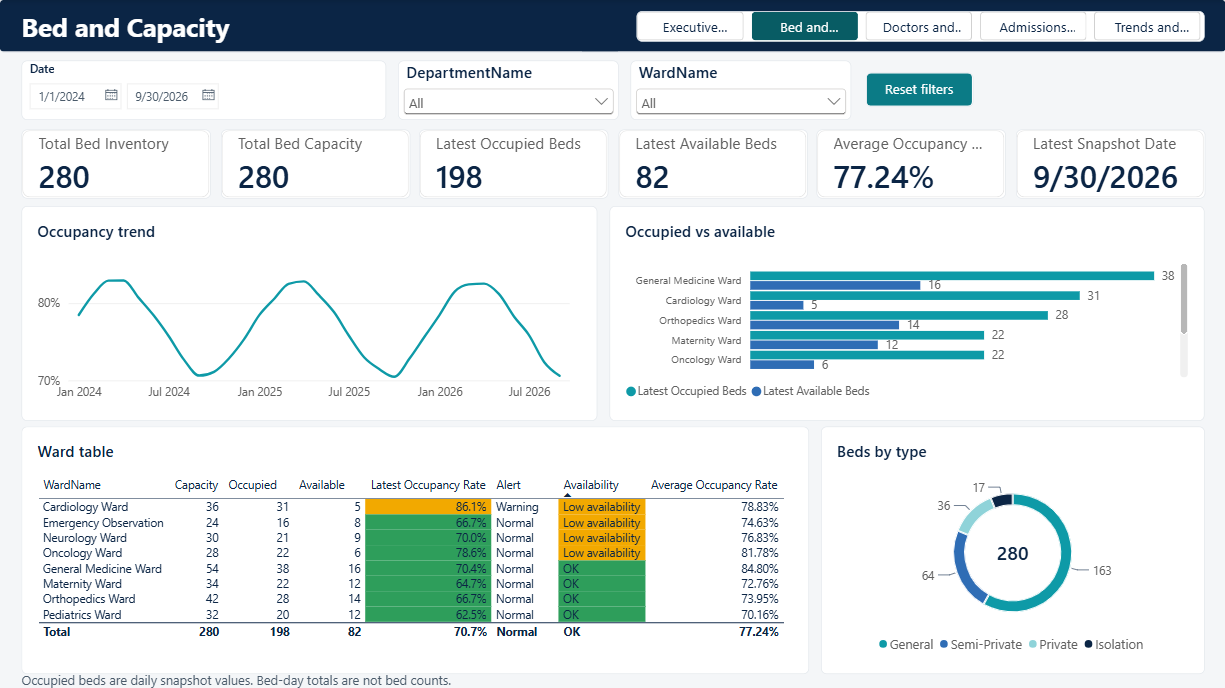

This screenshot's page, from the dashboard's own definition file:
{"tool":"powerbi","page":{"name":"Bed and Capacity","canvas":[1280,720],"ordinal":1},"visuals":[{"type":"shape","box":[0,0,1280.1,56.3],"z":0},{"type":"textbox","box":[23.1,11.6,600.9,44.3],"z":1000},{"type":"pageNavigator","box":[664,12,592,32],"z":2000},{"type":"slicer","fields":{"Values":["Calendar.Date"]},"box":[24,64,380,62],"z":3000},{"type":"slicer","fields":{"Values":["Departments.DepartmentName"]},"box":[416,64,230,62],"z":4000},{"type":"slicer","fields":{"Values":["Wards.WardName"]},"box":[658,64,230,62],"z":5000},{"type":"cardVisual","fields":{"Data":["_Measures.Total Bed Inventory"]},"box":[24,136,197,72],"z":6000},{"type":"cardVisual","fields":{"Data":["_Measures.Total Bed Capacity"]},"box":[231,136,197,72],"z":7000},{"type":"cardVisual","fields":{"Data":["_Measures.Latest Occupied Beds"]},"box":[438,136,197,72],"z":8000},{"type":"cardVisual","fields":{"Data":["_Measures.Latest Available Beds"]},"box":[645,136,197,72],"z":9000},{"type":"cardVisual","fields":{"Data":["_Measures.Average Occupancy Rate"]},"box":[852,136,197,72],"z":10000},{"type":"cardVisual","fields":{"Data":["_Measures.Latest Snapshot Date"]},"box":[1059,136,197,72],"z":11000},{"type":"lineChart","title":"Occupancy trend","fields":{"Category":["Calendar.MonthStart"],"Y":["_Measures.Average Occupancy Rate"]},"box":[24,216,600,224],"z":12000},{"type":"clusteredBarChart","title":"Occupied vs available","fields":{"Category":["Wards.WardName"],"Y":["_Measures.Latest Occupied Beds","_Measures.Latest Available Beds"]},"box":[636,216,620,224],"z":13000},{"type":"tableEx","title":"Ward table","fields":{"Values":["Wards.WardName","_Measures.Total Bed Capacity","_Measures.Latest Occupied Beds","_Measures.Latest Available Beds","_Measures.Latest Occupancy Rate","_Measures.Occupancy Alert Status","_Measures.Low Availability Status","_Measures.Average Occupancy Rate"]},"box":[23.4,445.5,820.6,257.9],"z":14000},{"type":"donutChart","title":"Beds by type","fields":{"Category":["Beds.BedType"],"Y":["_Measures.Total Bed Inventory"]},"box":[856.5,445.5,400.1,257.9],"z":15000},{"type":"textbox","box":[24,700,1232,20],"z":16000},{"type":"actionButton","box":[903.2,77,111.7,36],"z":25000}]}

Visuals, with their boxes in screenshot pixels (x1, y1, x2, y2), scaled from the page's 1280x720 canvas onto the 1225x688 screenshot:
shape: 0:0:1224:54
textbox: 22:11:597:53
pageNavigator: 635:11:1202:42
slicer - Calendar.Date: 23:61:387:120
slicer - Departments.DepartmentName: 398:61:618:120
slicer - Wards.WardName: 630:61:850:120
cardVisual - _Measures.Total Bed Inventory: 23:130:212:199
cardVisual - _Measures.Total Bed Capacity: 221:130:410:199
cardVisual - _Measures.Latest Occupied Beds: 419:130:608:199
cardVisual - _Measures.Latest Available Beds: 617:130:806:199
cardVisual - _Measures.Average Occupancy Rate: 815:130:1004:199
cardVisual - _Measures.Latest Snapshot Date: 1013:130:1202:199
"Occupancy trend" lineChart: 23:206:597:420
"Occupied vs available" clusteredBarChart: 609:206:1202:420
"Ward table" tableEx: 22:426:808:672
"Beds by type" donutChart: 820:426:1203:672
textbox: 23:669:1202:687
actionButton: 864:74:971:108
